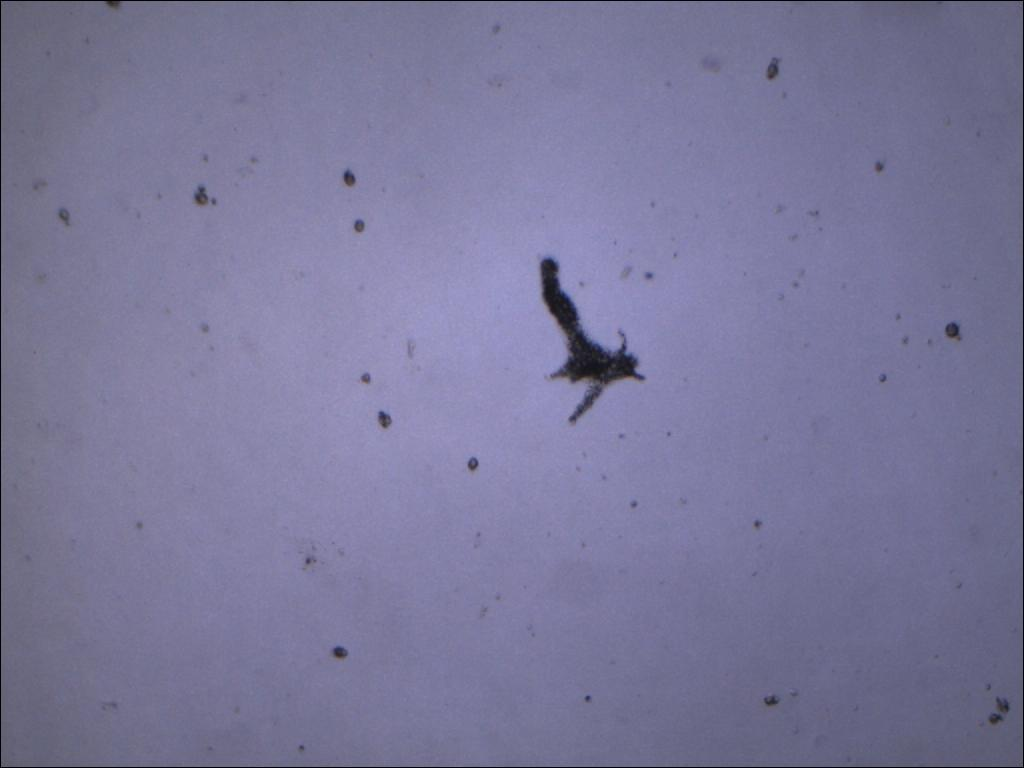amoeba: (526, 243, 671, 438)
